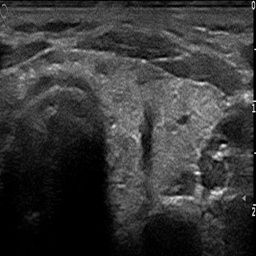mass: (137, 103, 156, 161)
